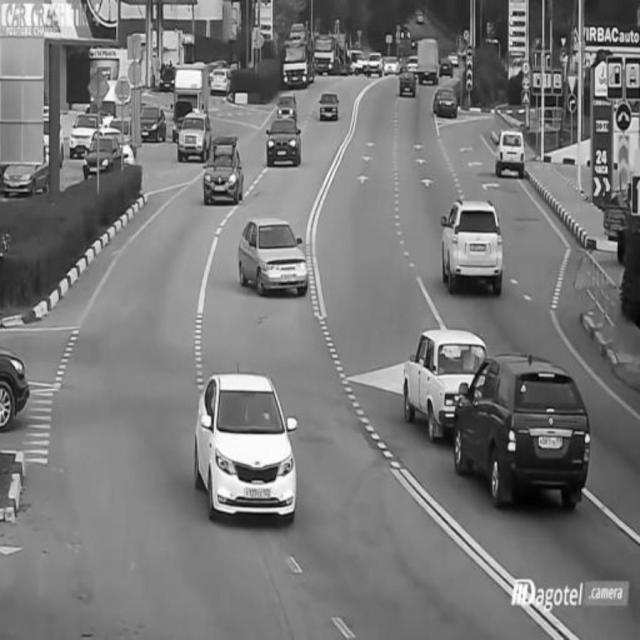vehicle: (460, 350, 591, 504), (194, 372, 296, 529), (404, 324, 480, 445), (438, 201, 506, 295), (239, 217, 309, 299), (1, 340, 36, 424), (206, 132, 242, 205), (263, 110, 304, 165), (81, 124, 122, 179), (278, 32, 312, 93), (495, 123, 527, 187), (177, 107, 211, 163), (136, 93, 168, 150), (413, 33, 443, 85), (393, 63, 421, 105), (431, 87, 461, 122), (316, 91, 342, 128), (362, 46, 384, 78)
